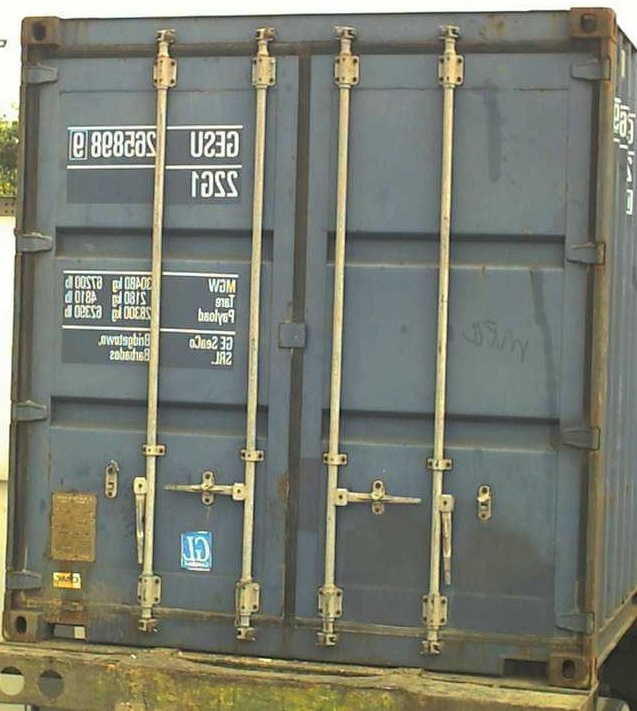container_door: (9, 7, 614, 663)
